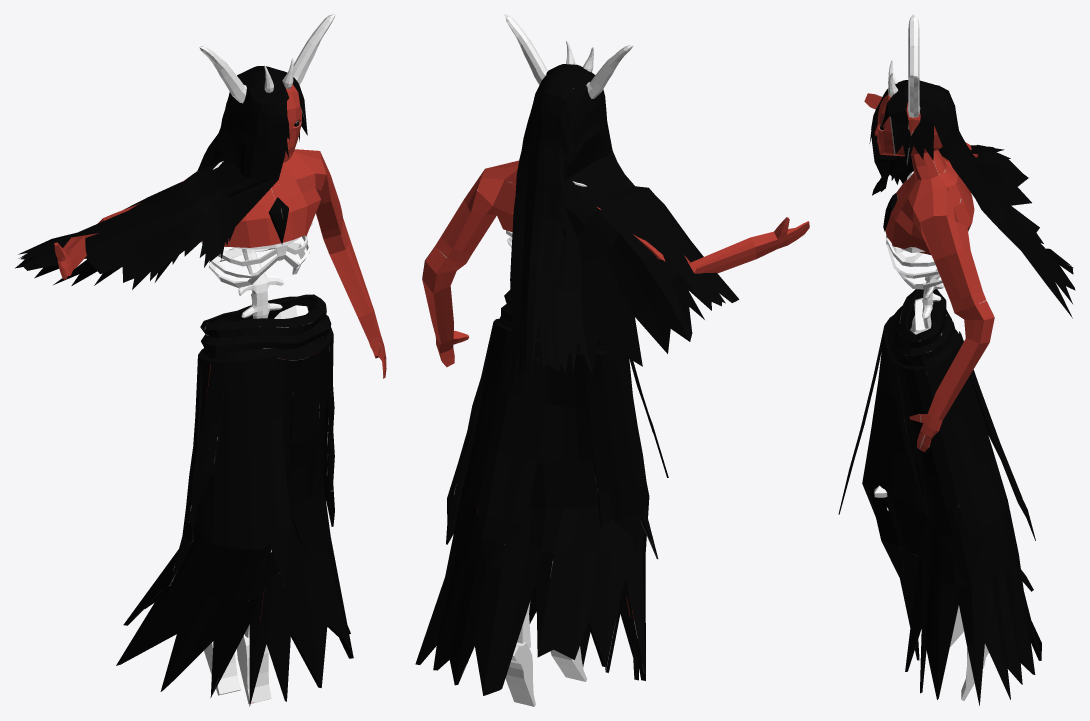
Rendered from cursedqueenattack_05.fbx.
The picture shows the model from 3 angles, left to right: view 1: azimuth 30°, elevation 25°; view 2: azimuth 150°, elevation 25°; view 3: azimuth 270°, elevation 25°; orthographic projection. The views are drawn at different scales.
Visible parts, largest first — view 1: cursed_queen; view 2: cursed_queen; view 3: cursed_queen.
Boxes of the visible parts, x1=… form: cursed_queen: x1=15, y1=14, x2=386, y2=706; cursed_queen: x1=415, y1=14, x2=809, y2=706; cursed_queen: x1=838, y1=14, x2=1075, y2=705.
Bounding box in the file's own units: 150 × 280 × 93.47.
